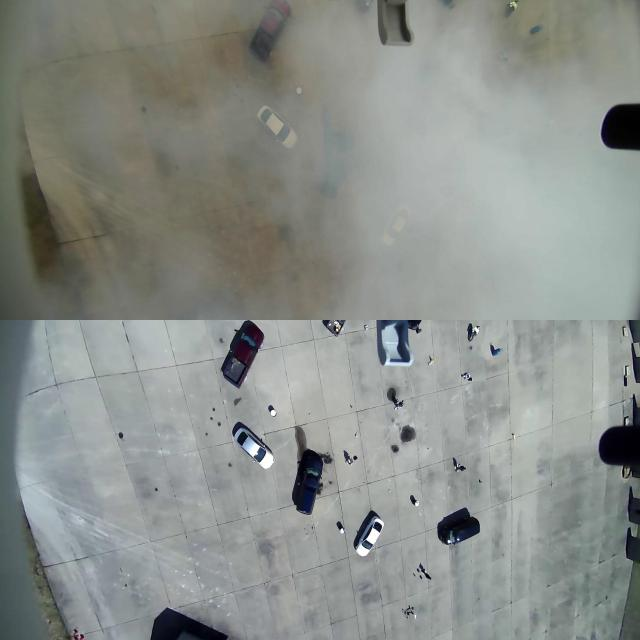car: (242, 0, 298, 66), (218, 320, 266, 387), (292, 442, 326, 519), (252, 98, 302, 149), (232, 422, 274, 468), (353, 511, 384, 556), (438, 514, 481, 546)
